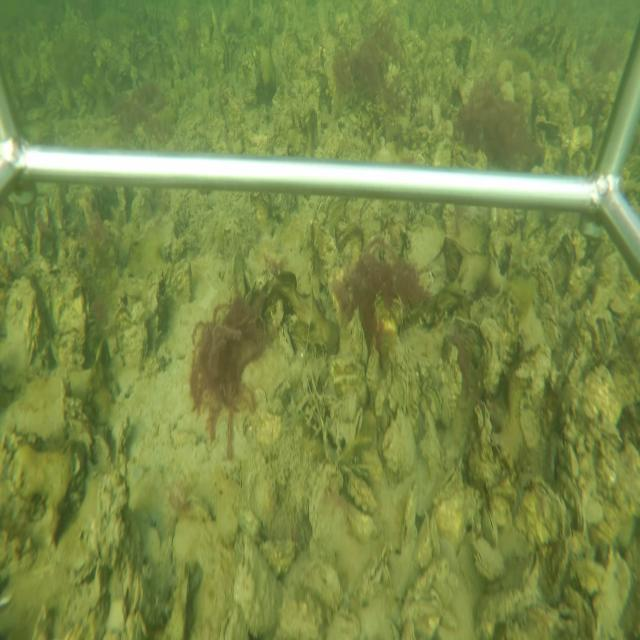Oyster-Closed: (231, 531, 283, 636), (48, 262, 90, 366), (521, 476, 568, 548), (404, 214, 447, 274), (117, 312, 148, 377), (341, 498, 377, 543), (399, 478, 420, 554), (470, 536, 509, 576), (432, 456, 465, 501), (349, 303, 368, 372), (229, 243, 247, 297), (279, 323, 295, 365)
Oyster-Indeterminate: (277, 577, 333, 638), (5, 273, 42, 360), (382, 410, 419, 481)
